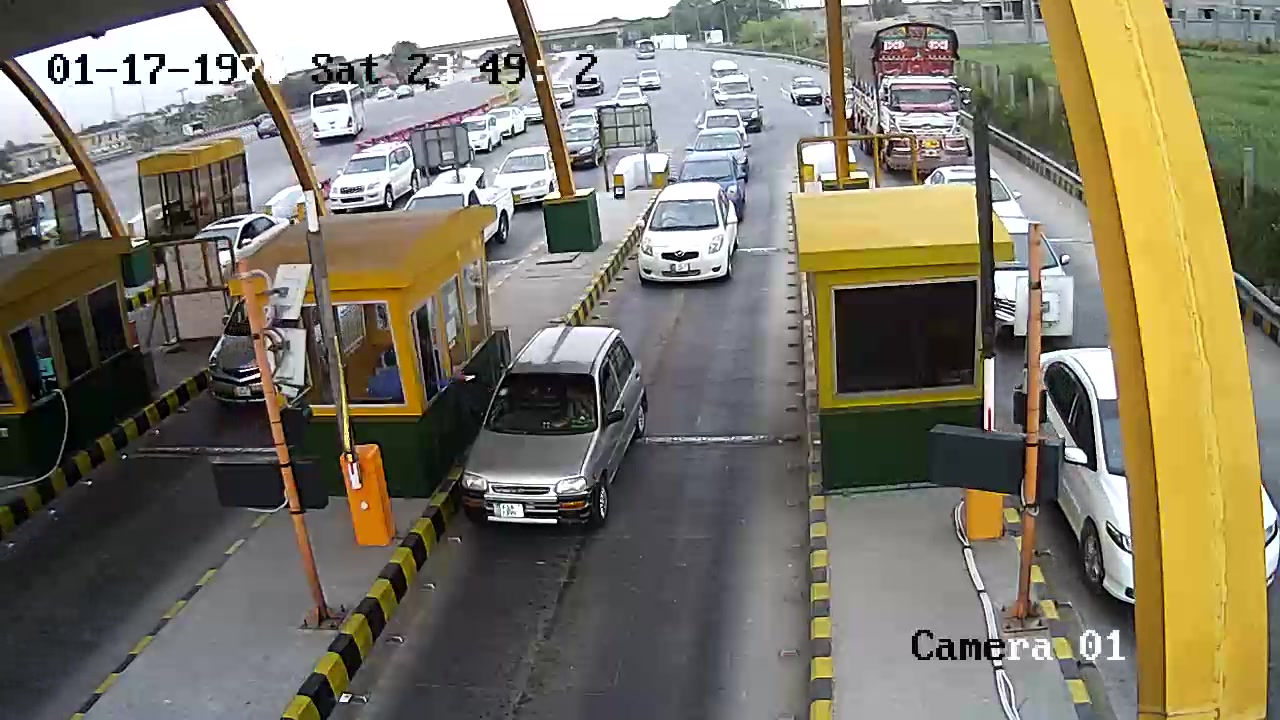F1: (453, 317, 674, 530), (624, 176, 752, 292)
